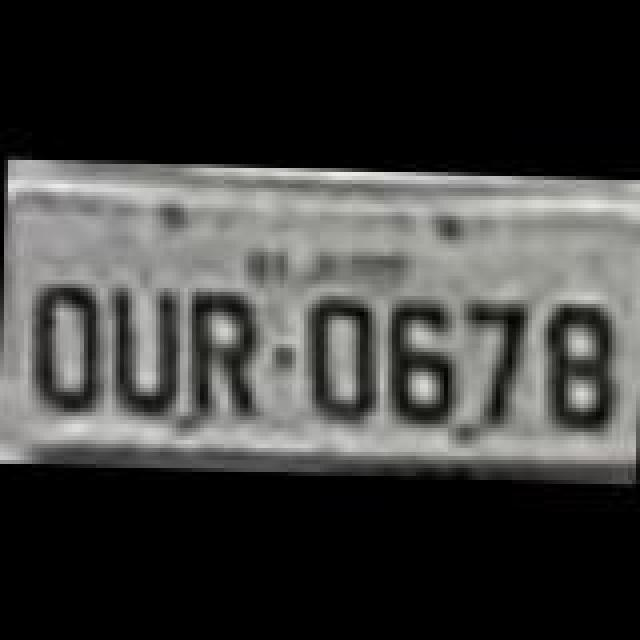6: (378, 296, 454, 424)
7: (462, 294, 530, 426)
8: (536, 298, 616, 430)
O: (26, 284, 102, 420), (306, 294, 382, 418)
R: (178, 286, 254, 418)
U: (104, 286, 184, 418)
